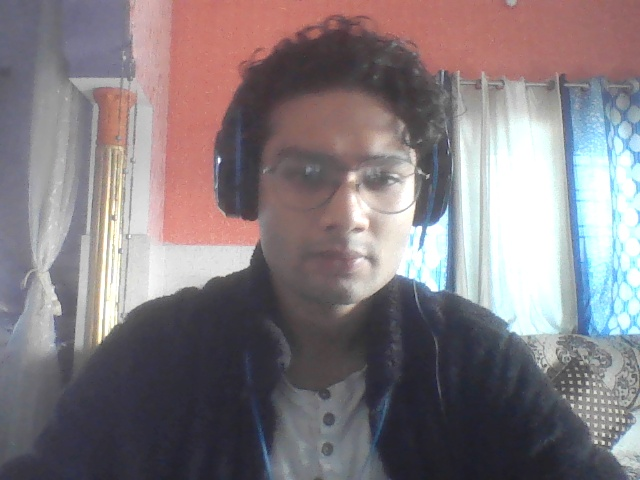real: (224, 23, 443, 334)
